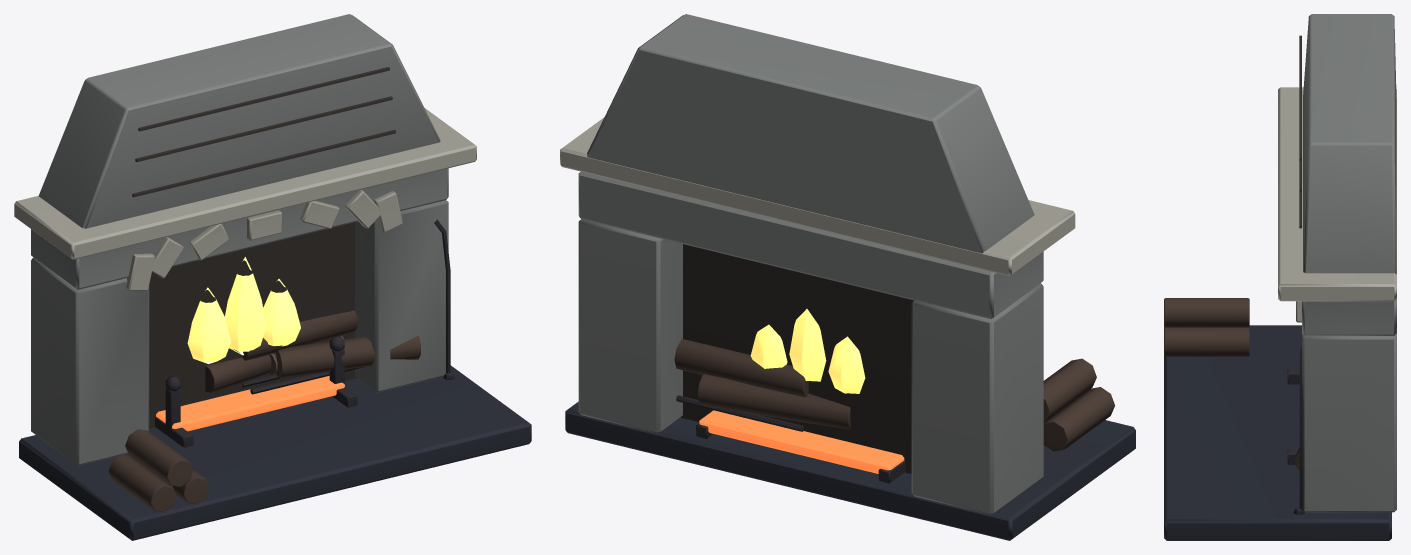
File: hearth_stone.glb
3 views of the same model, side by side, from view 1: azimuth 30°, elevation 25°; view 2: azimuth 150°, elevation 25°; view 3: azimuth 270°, elevation 25° (orthographic). The views are drawn at different scales.
Visible parts, largest first — view 1: hearth_stone, flame; view 2: hearth_stone, flame; view 3: hearth_stone.
Part boxes in pixels (left/top/right/bottom): hearth_stone: left=14, top=14, right=531, bottom=540; flame: left=187, top=257, right=300, bottom=363; hearth_stone: left=560, top=14, right=1135, bottom=540; flame: left=750, top=309, right=865, bottom=393; hearth_stone: left=1164, top=14, right=1396, bottom=540.
Bounding box in the file's own units: 1.98 × 1.7 × 0.98.
